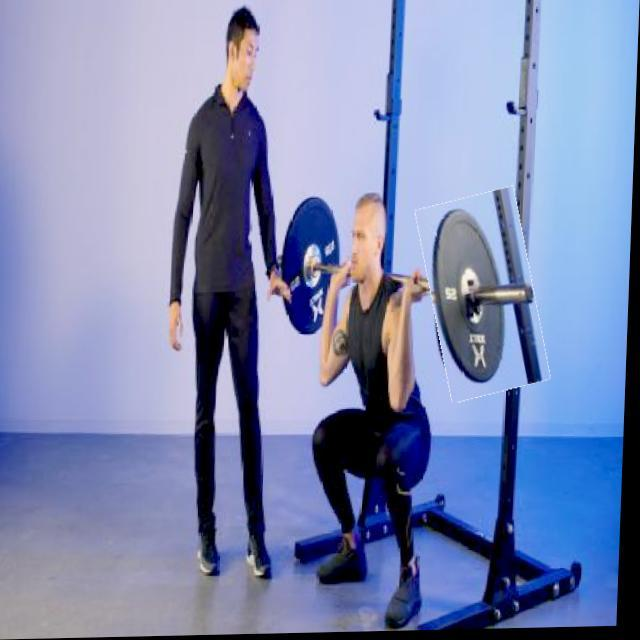barbell: (423, 193, 550, 403)
